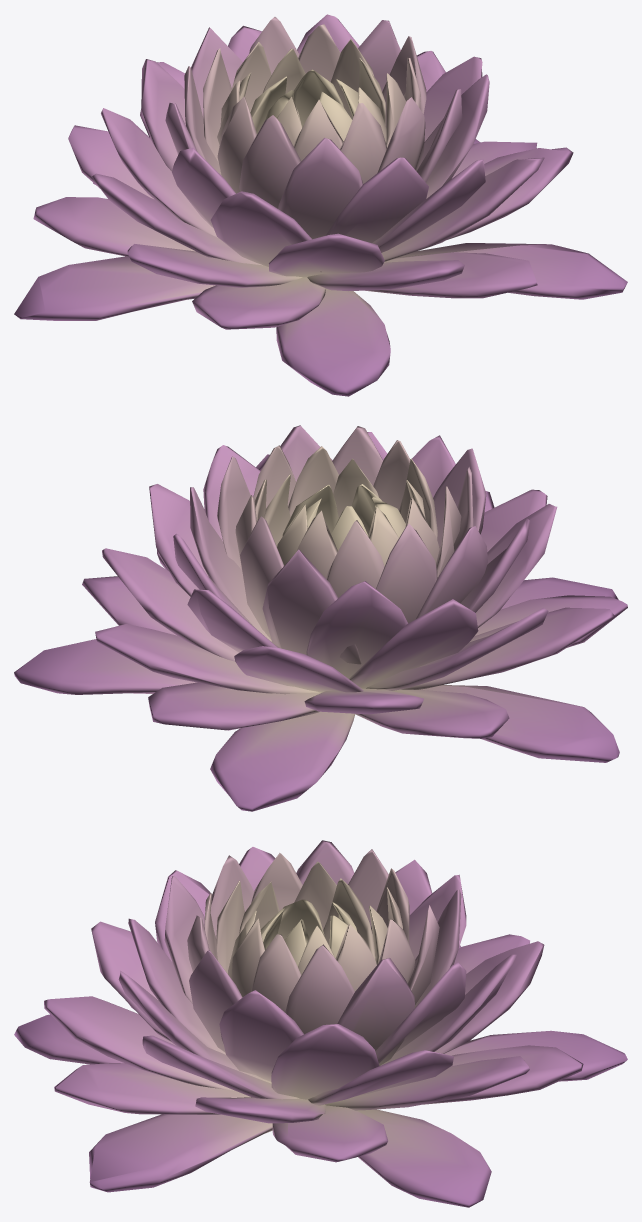
The model's file is hoa-dang-sen.glb.
3 renders of one model, top to bottom at view 1: azimuth 30°, elevation 25°; view 2: azimuth 150°, elevation 25°; view 3: azimuth 270°, elevation 25°, orthographic. The views are drawn at different scales.
Visible parts, largest first — view 1: Lotus Flower by Geometry Nodes; view 2: Lotus Flower by Geometry Nodes; view 3: Lotus Flower by Geometry Nodes.
Part boxes in pixels (left/top/right/bottom): Lotus Flower by Geometry Nodes: left=14, top=14, right=627, bottom=396; Lotus Flower by Geometry Nodes: left=14, top=425, right=627, bottom=811; Lotus Flower by Geometry Nodes: left=14, top=840, right=627, bottom=1207.
Bounding box in the file's own units: 0.9269 × 0.3658 × 0.9391.
